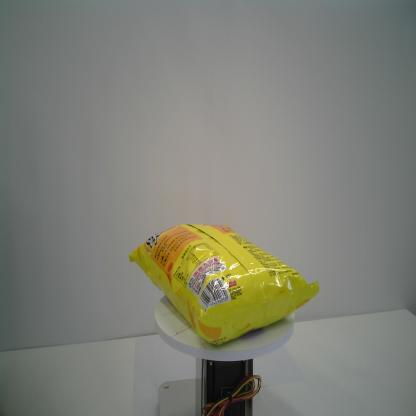Puffed Food: (126, 219, 321, 347)
